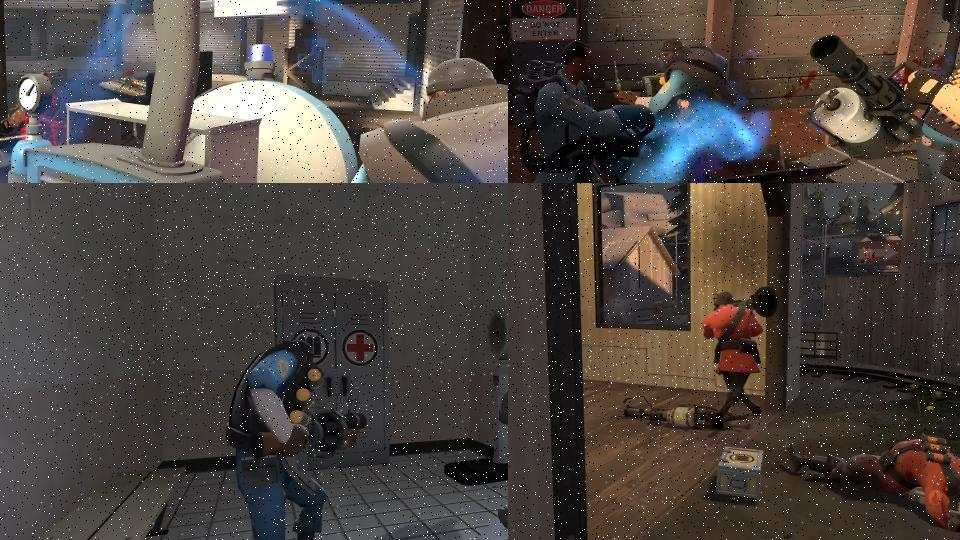Enemy: (207, 340, 368, 540), (803, 0, 960, 183), (600, 25, 776, 183), (508, 37, 695, 183), (343, 55, 508, 183), (783, 430, 960, 540), (702, 285, 780, 428), (468, 358, 508, 540), (0, 72, 64, 173), (863, 246, 876, 274)
